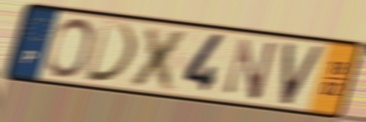4: (179, 30, 224, 99)
D: (83, 18, 140, 85)
N: (222, 36, 280, 103)
O: (44, 16, 96, 80)
V: (278, 40, 327, 108)
X: (126, 23, 195, 94)
